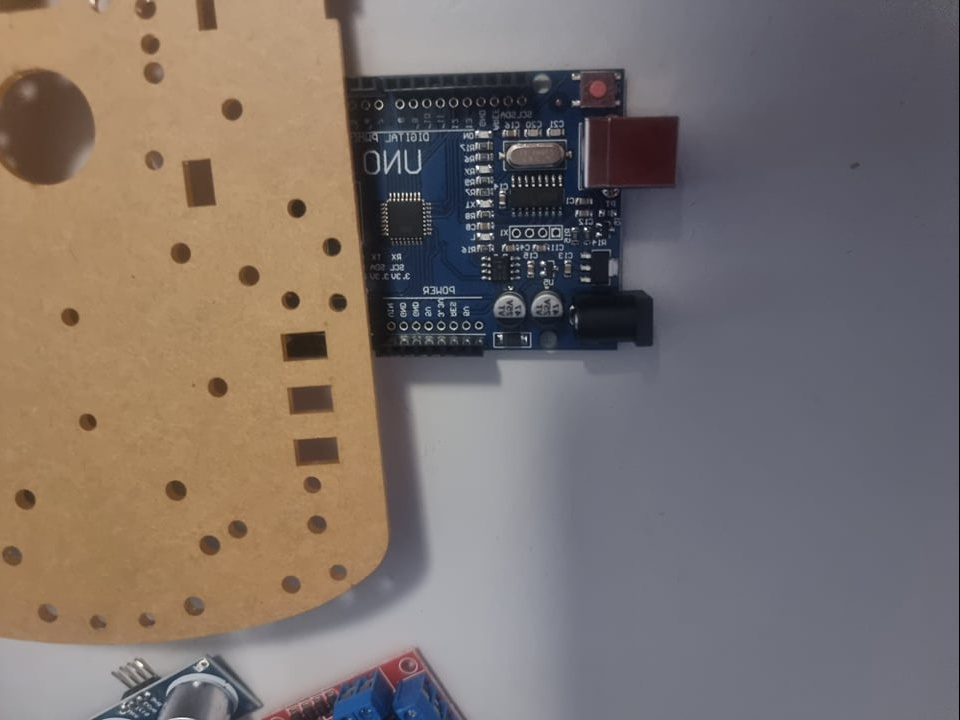UNO R3: (354, 67, 689, 382)
